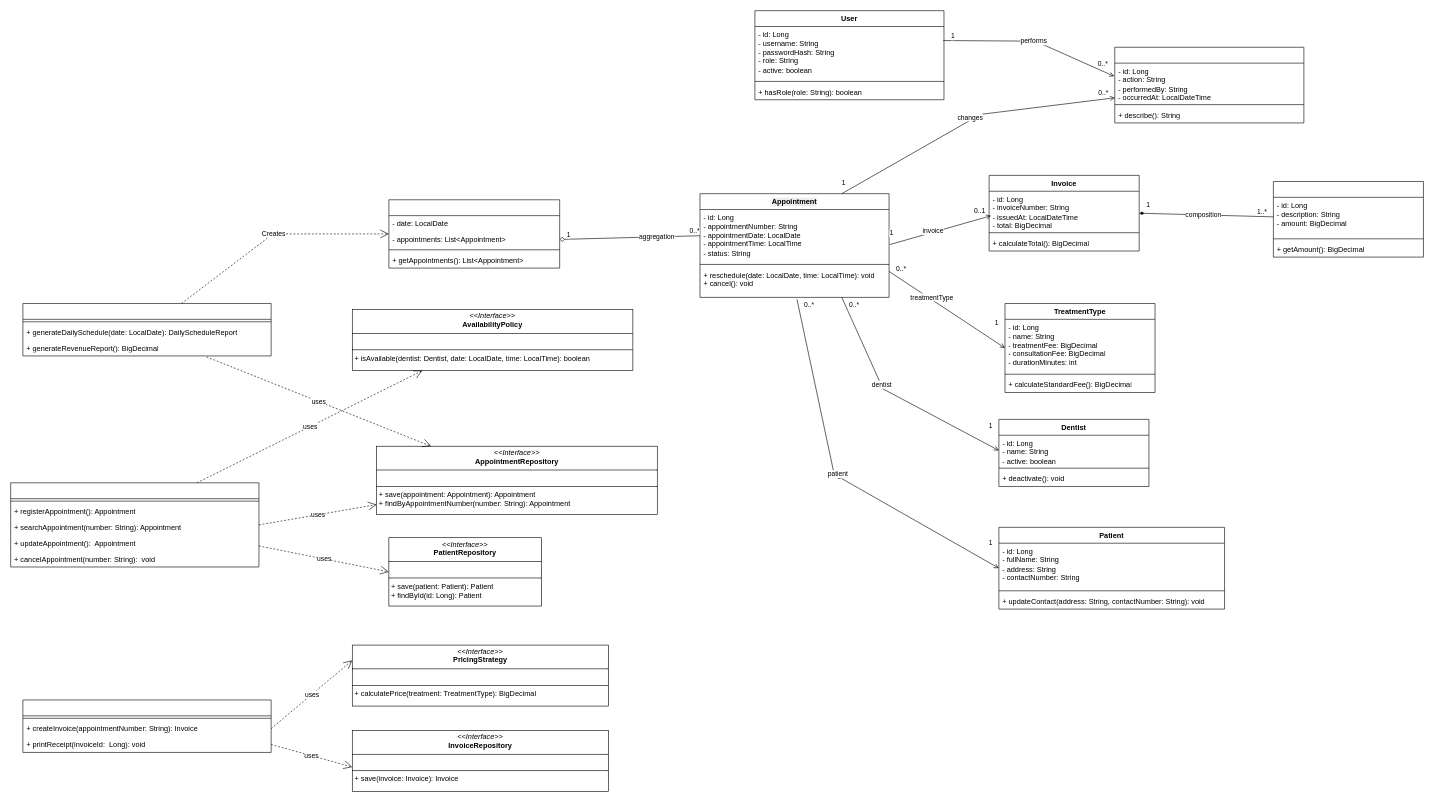
Some shapes in this 1434 by 802 pixel diagram are drawn without their labels. The shapes that lost their labels are listed below. From the top down, each one's box as (x1, y1, x2, y2) in pixels, then its label:
(1114, 47, 1304, 123): AuditEvent
(388, 199, 560, 268): DailyScheduleReport
(1273, 181, 1423, 257): InvoiceItem
(22, 303, 271, 356): ReportService
(10, 482, 259, 567): AppointmentService
(22, 699, 271, 752): BillingService
